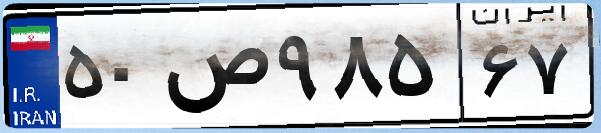0: (110, 28, 158, 98)
5: (385, 28, 445, 110), (57, 26, 110, 100)
6: (475, 38, 525, 113)
7: (525, 38, 570, 115)
8: (330, 28, 385, 110)
9: (270, 28, 330, 110)
ص: (158, 20, 270, 120)
